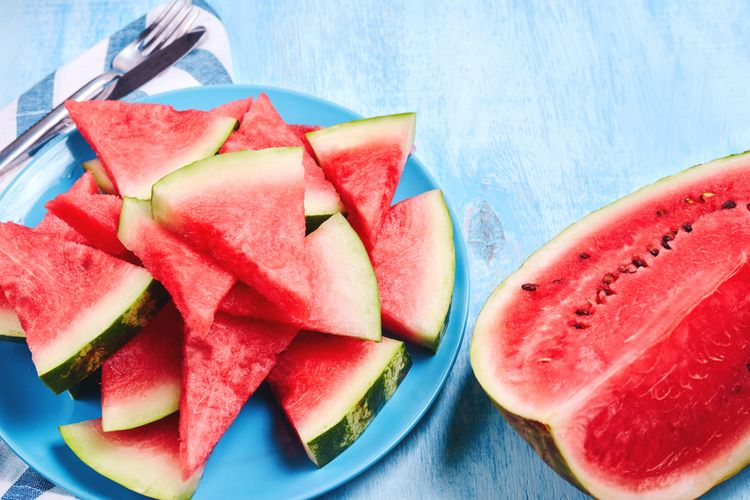Semangka: (49, 42, 240, 193), (1, 234, 186, 382), (196, 120, 315, 329), (326, 100, 447, 245)
